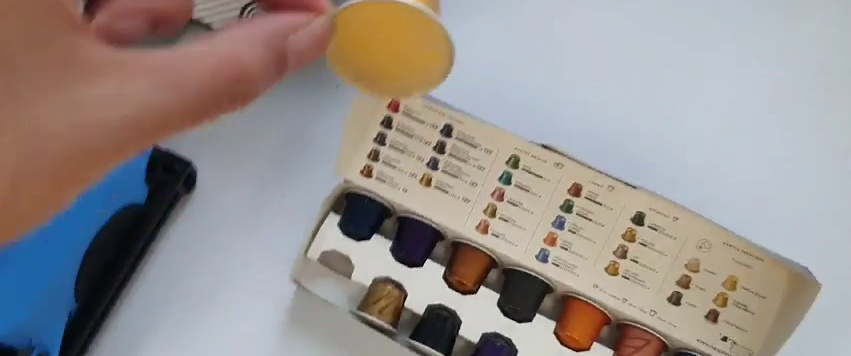capsule_8: (320, 1, 459, 100)
